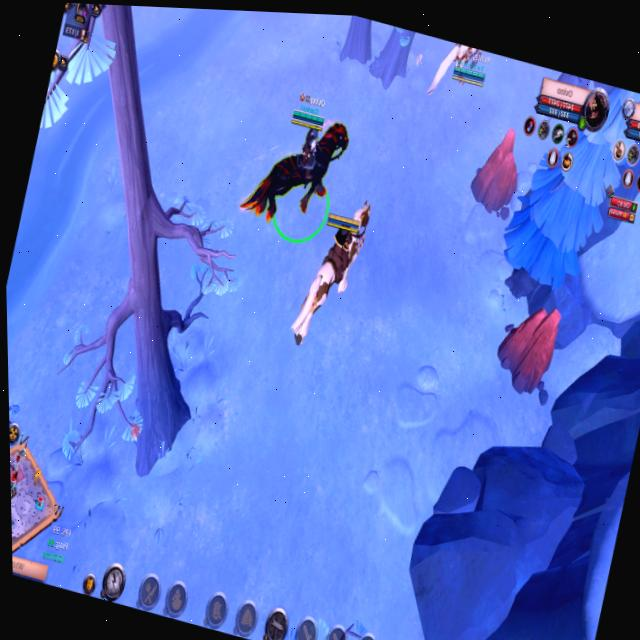red: (229, 77, 361, 255), (275, 177, 384, 364), (417, 37, 501, 123)
tree: (484, 292, 574, 408), (461, 117, 538, 228)
